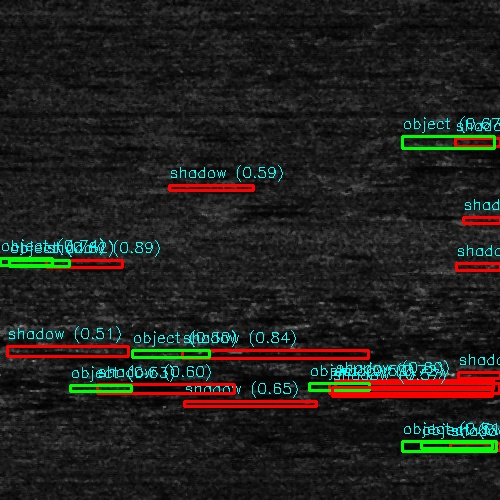rock: (133, 350, 226, 359), (63, 385, 156, 394), (426, 265, 500, 272), (39, 261, 92, 268), (196, 201, 249, 206)
shadow: (180, 350, 323, 359), (110, 385, 230, 394), (66, 261, 138, 268), (223, 201, 309, 206), (473, 265, 500, 272)
